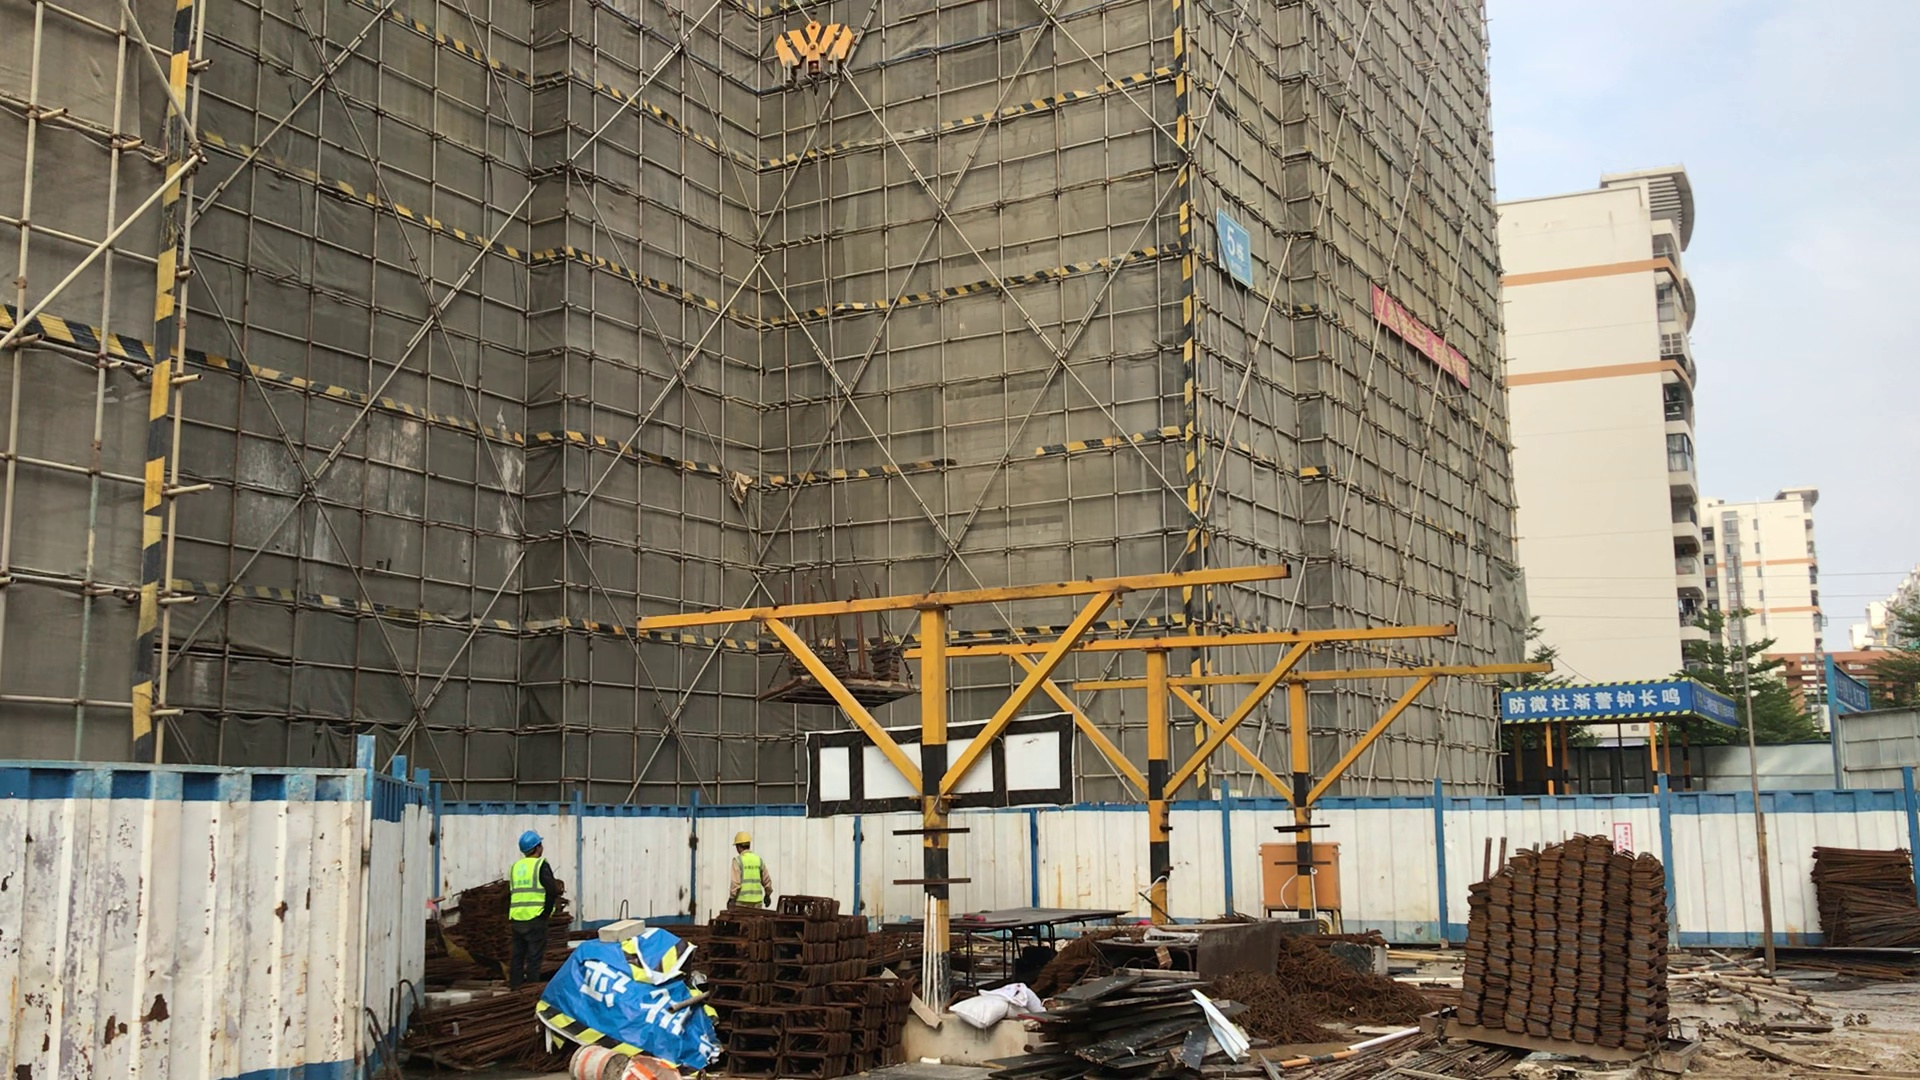helmet: (518, 833, 544, 851), (732, 830, 750, 845)
hook: (767, 14, 856, 91)
person: (509, 831, 558, 983), (727, 832, 772, 909)
rebar: (1820, 841, 1920, 958)
slogan: (1373, 283, 1469, 383), (1502, 688, 1692, 722)
vest: (509, 857, 545, 922), (736, 851, 764, 903)
